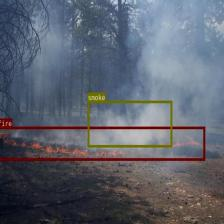fire: (0, 126, 204, 159)
smoke: (87, 100, 172, 147)
